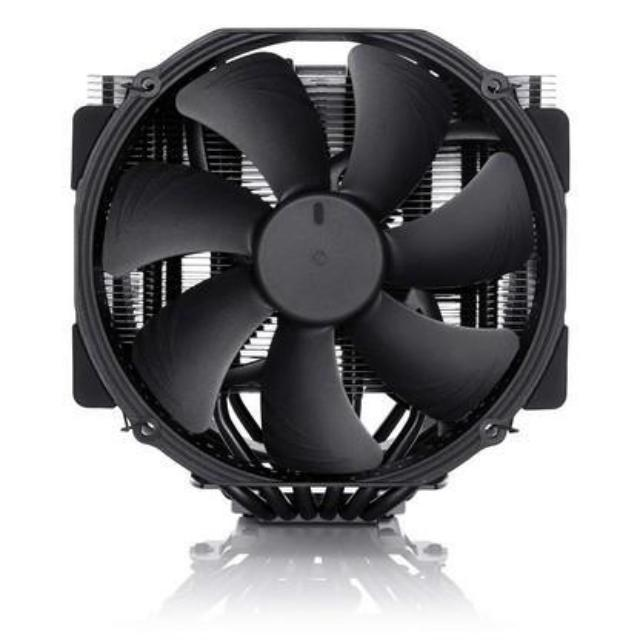CPU_Fan: (36, 18, 604, 546)
